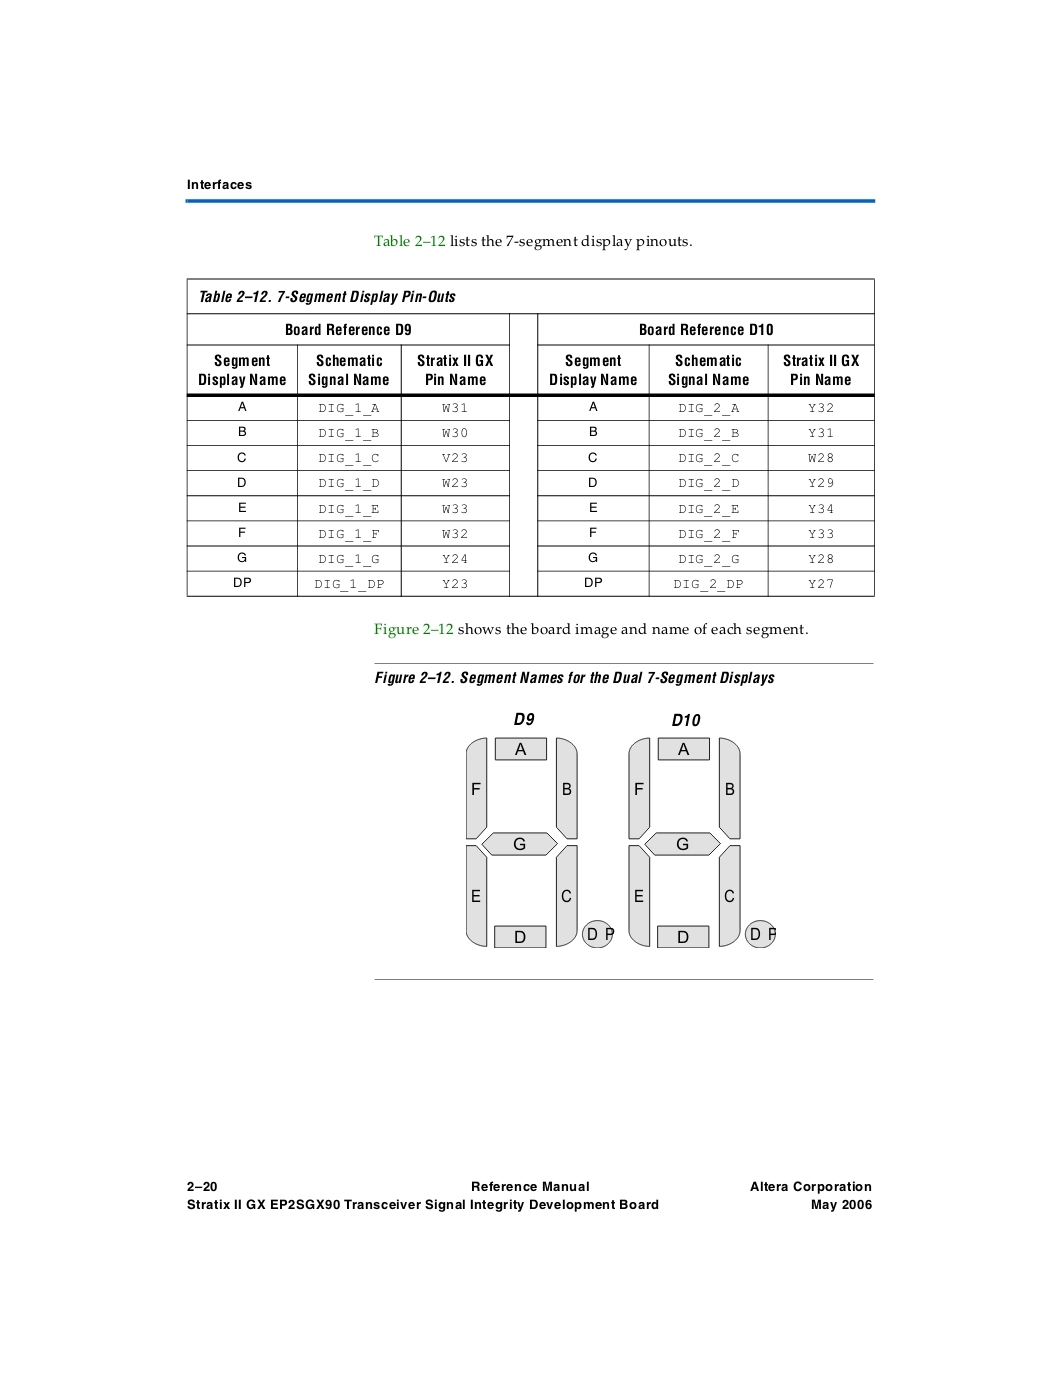Table: (186, 277, 874, 597)
figure: (466, 736, 775, 948)
